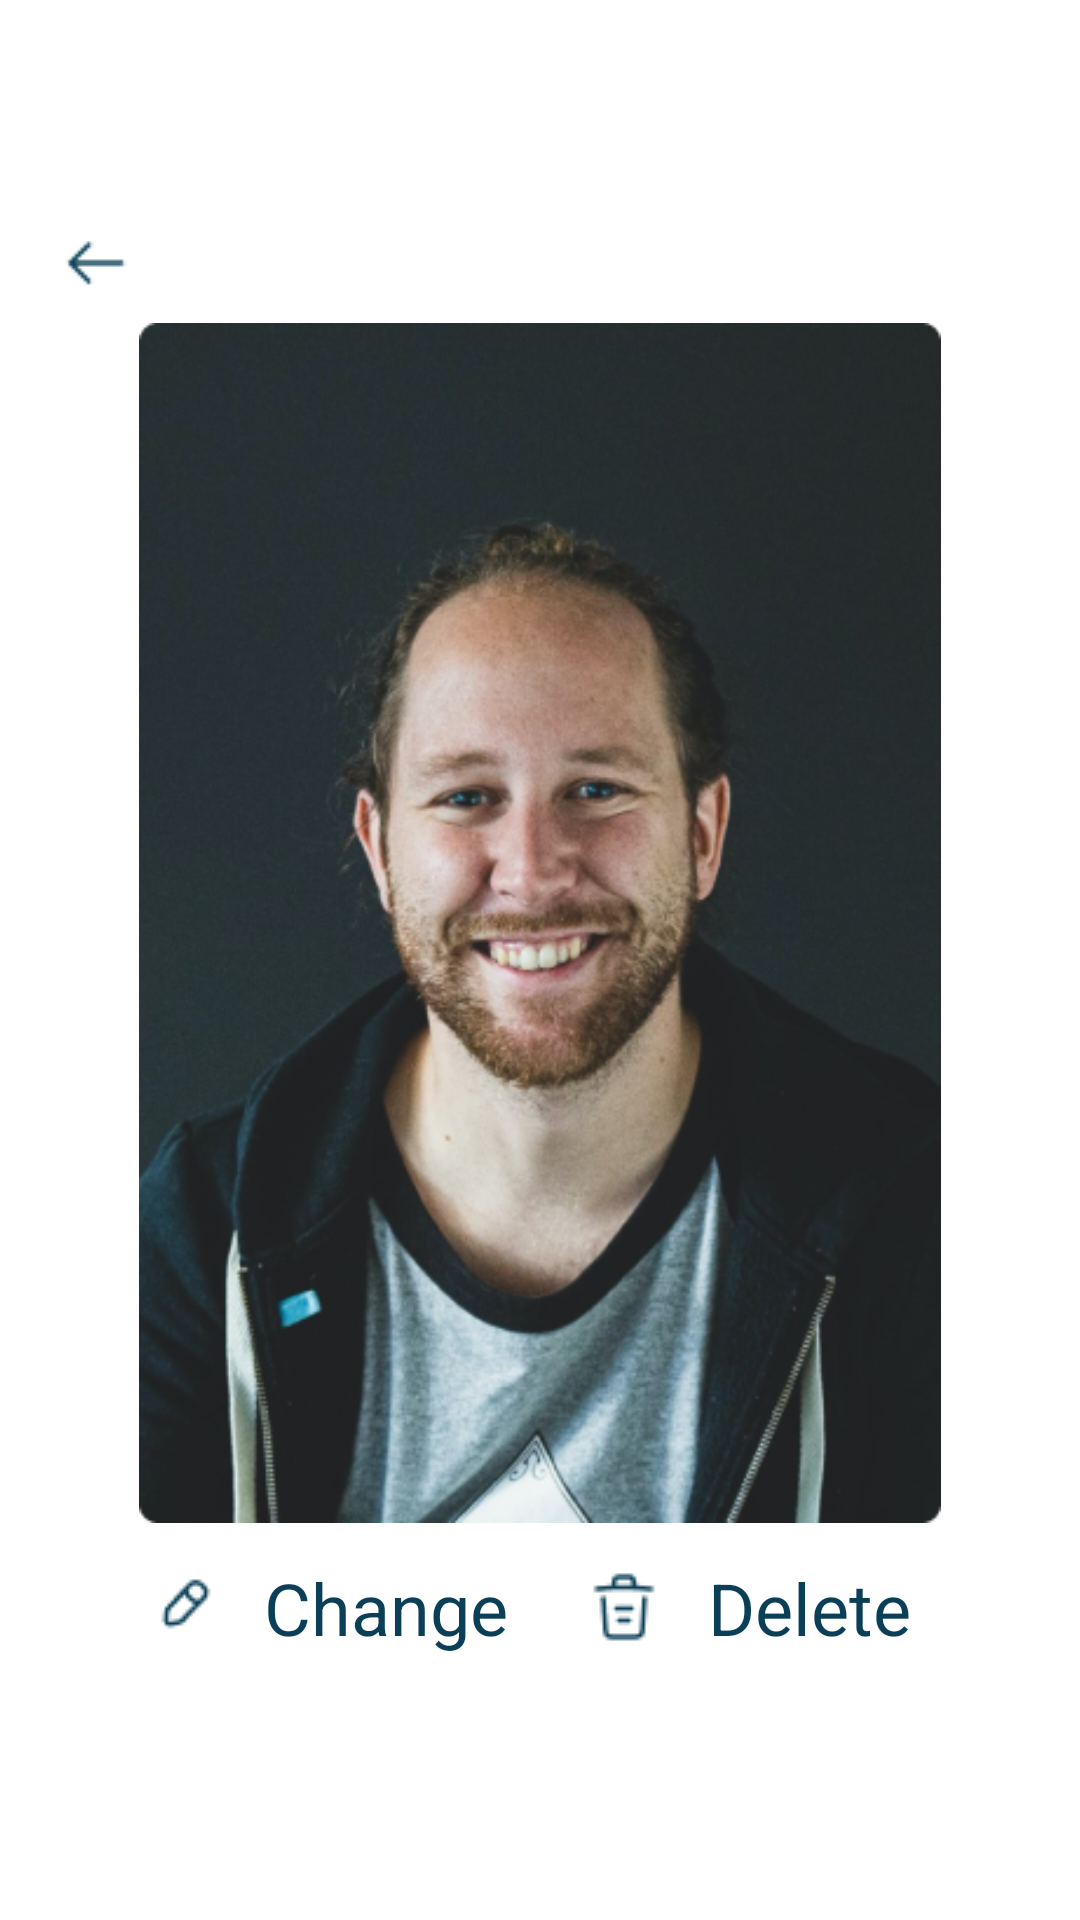

Point at icon controls on the screen. Image size 1080 x 1920, points as [x,y].
back: [96,263]
